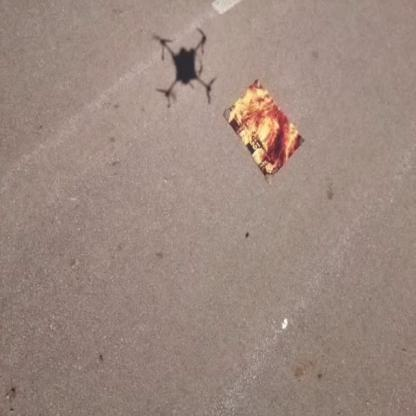fire-poster: (222, 77, 306, 186)
